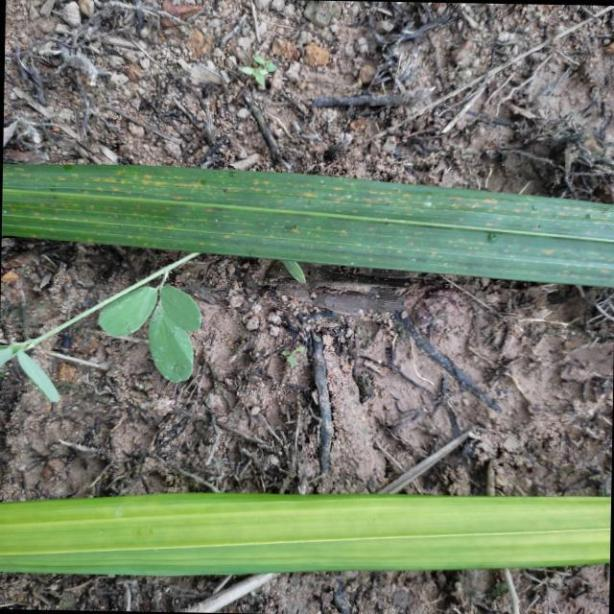nitrogen: (0, 150, 614, 293), (0, 491, 614, 579)
